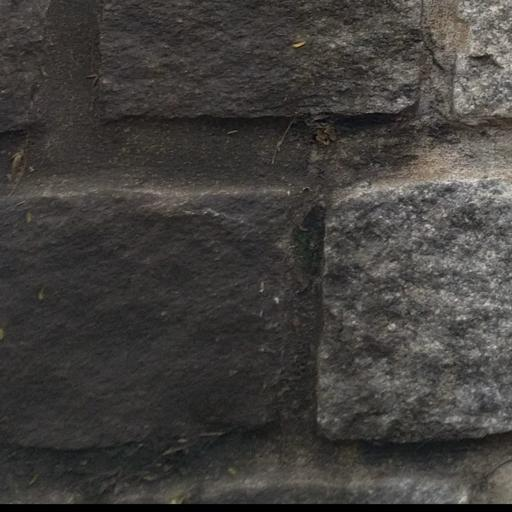stain: (0, 0, 396, 455)
